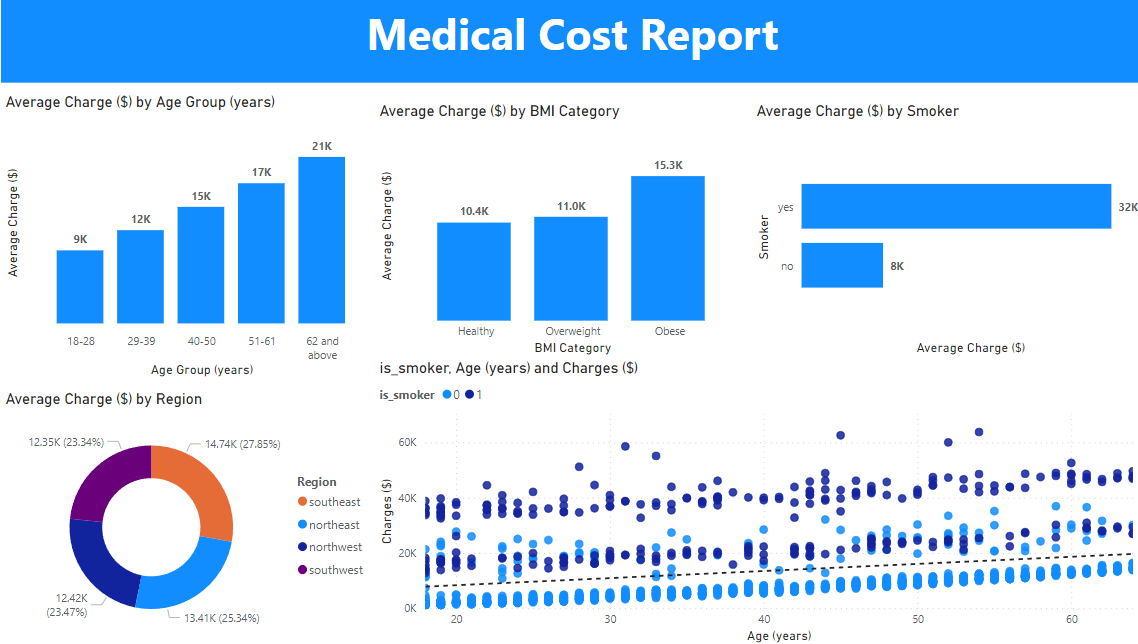

Layout of this report page (visuals, bound fields, positions):
{"tool":"powerbi","page":{"name":"Page 1","canvas":[1280,720],"ordinal":0},"visuals":[{"type":"textbox","box":[10.3,0,1269.7,93.1],"z":0},{"type":"columnChart","fields":{"Category":["average_charges_by_age.age_group"],"Y":["Sum(average_charges_by_age.avg_charges)"]},"box":[10,104.4,415.6,320],"z":1000},{"type":"donutChart","fields":{"Y":["Sum(average_charges_by_region.avg_charges)"],"Category":["average_charges_by_region.State or Province"]},"box":[10,434,416,286],"z":1001},{"type":"scatterChart","fields":{"X":["charges_by_multiple_factors.age"],"Y":["charges_by_multiple_factors.charges"],"Series":["charges_by_multiple_factors.is_smoker"]},"box":[425.6,400,854.4,320],"z":1002},{"type":"columnChart","fields":{"Category":["average_charges_by_bmi_category.bmi_category"],"Y":["Sum(average_charges_by_bmi_category.avg_charges)"]},"box":[425.6,114.4,418.9,285.6],"z":1003},{"type":"barChart","fields":{"Y":["Sum(avg_charges_by_smokers.avg_charges)"],"Category":["avg_charges_by_smokers.smoker"]},"box":[844.4,114.4,435.6,285.6],"z":1004}]}

Visuals, with their boxes in screenshot pixels (x1, y1, x2, y2), scaled from the page's 1280x720 canvas onto the 1138x644 screenshot:
textbox: {"left": 9, "top": 0, "right": 1137, "bottom": 83}
columnChart - average_charges_by_age.age_group x Sum(average_charges_by_age.avg_charges): {"left": 9, "top": 93, "right": 378, "bottom": 380}
donutChart - Sum(average_charges_by_region.avg_charges) x average_charges_by_region.State or Province: {"left": 9, "top": 388, "right": 379, "bottom": 643}
scatterChart - charges_by_multiple_factors.age x charges_by_multiple_factors.charges: {"left": 378, "top": 358, "right": 1137, "bottom": 643}
columnChart - average_charges_by_bmi_category.bmi_category x Sum(average_charges_by_bmi_category.avg_charges): {"left": 378, "top": 102, "right": 751, "bottom": 358}
barChart - Sum(avg_charges_by_smokers.avg_charges) x avg_charges_by_smokers.smoker: {"left": 751, "top": 102, "right": 1137, "bottom": 358}
